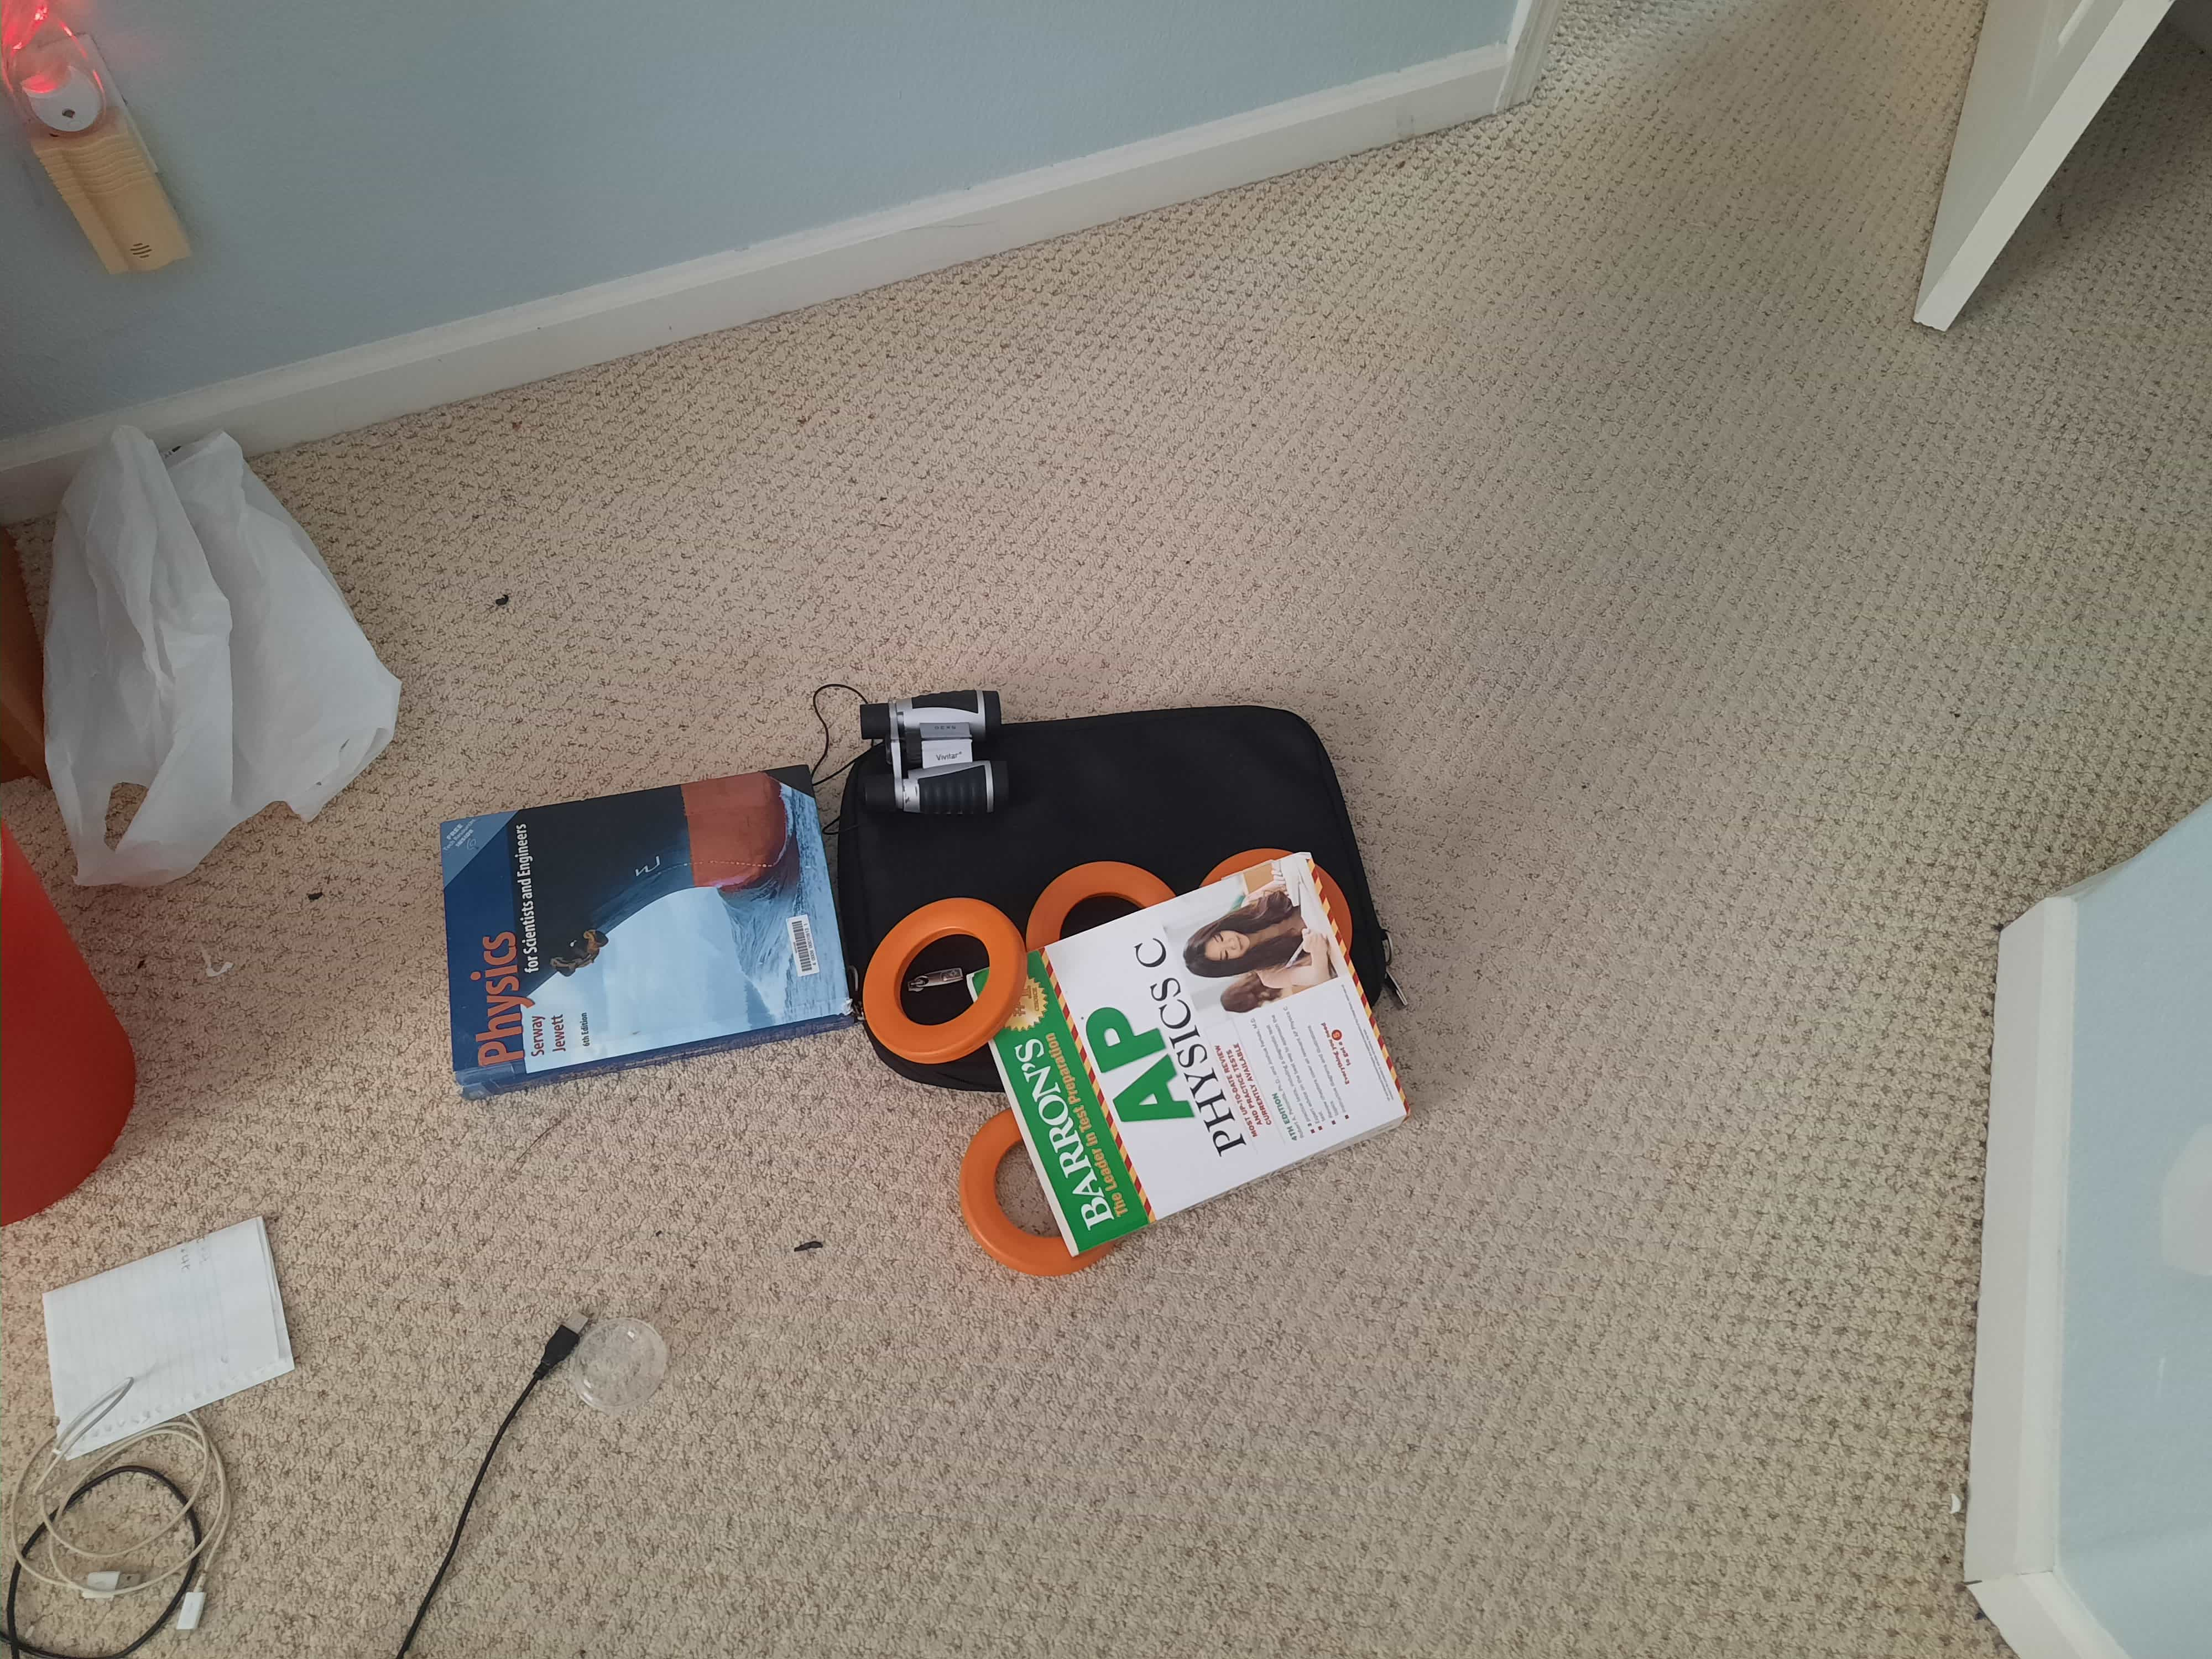OneStack: (960, 1126, 1125, 1272), (860, 908, 1012, 1054), (1029, 859, 1174, 950), (1207, 845, 1357, 924)
